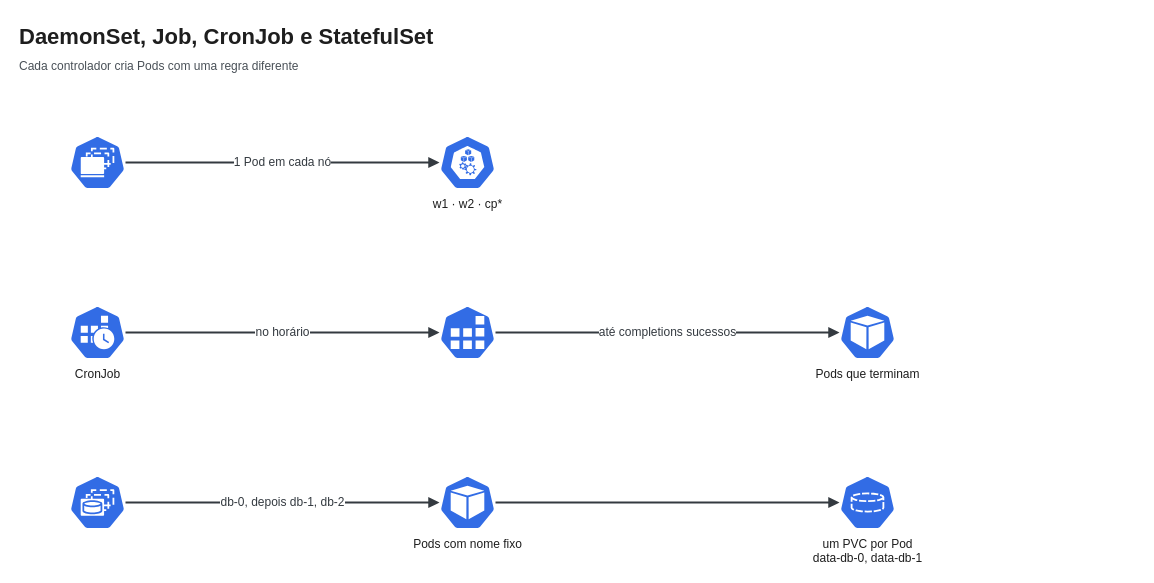
The diagram is 1154 pixels wide and 583 high, and some of its shapes have lost their labels. The box of each missing label's shape, as (x1, y1, x2, y2) in pixels:
DaemonSet: (68, 134, 126, 190)
Job: (438, 304, 496, 360)
StatefulSet: (68, 474, 126, 530)
